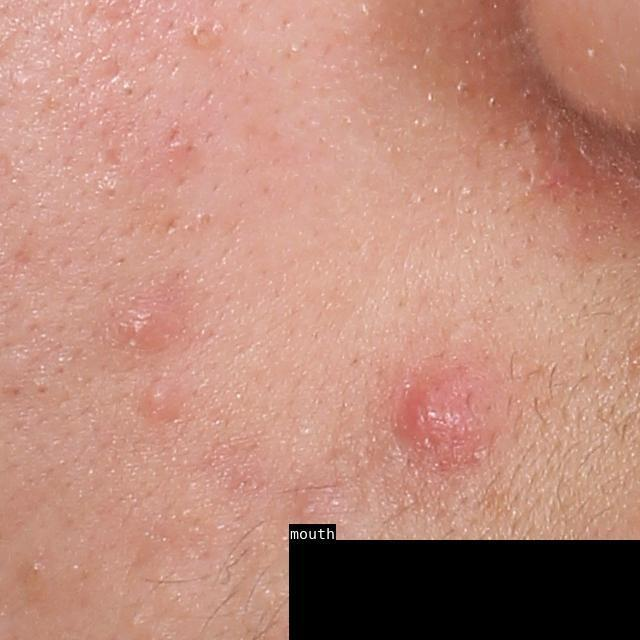papule: (401, 378, 488, 471), (124, 308, 173, 353), (143, 381, 179, 416)
